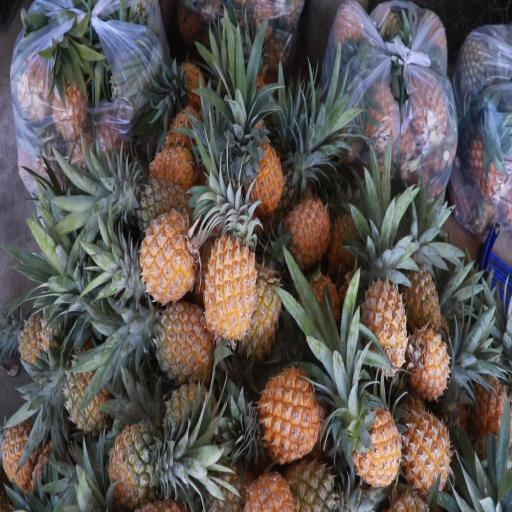------------------------------: (102, 417, 179, 511), (192, 410, 244, 511), (63, 350, 115, 435), (126, 170, 192, 236), (278, 447, 344, 512), (371, 454, 438, 512)
Pineapple - v8 v1: (258, 366, 324, 469), (144, 292, 215, 387), (204, 222, 257, 347), (136, 209, 199, 309), (358, 260, 407, 382), (397, 400, 454, 496), (241, 255, 288, 369), (345, 398, 401, 491), (282, 180, 336, 264), (400, 246, 446, 340), (405, 323, 455, 405), (243, 134, 286, 218), (0, 402, 43, 482), (148, 142, 206, 192)
